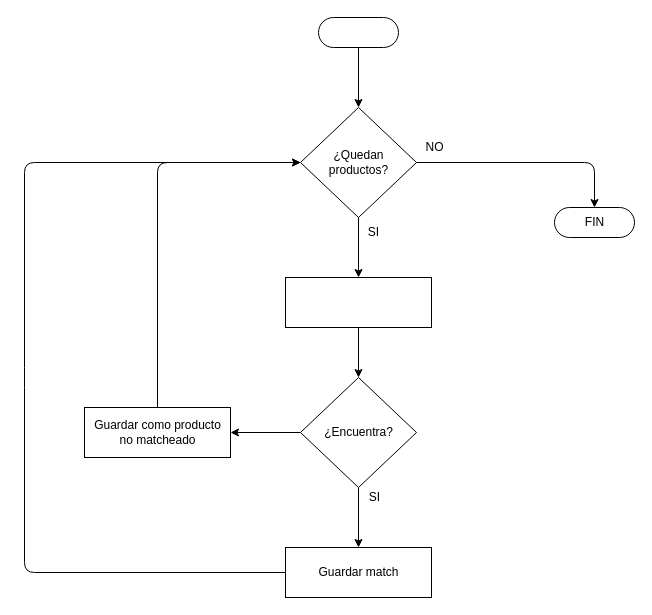
The diagram is 652 pixels wide and 615 high, and some of its shapes have lost their labels. The shapes that lost their labels are listed below. From the top down, each one's centre as x and y in pixels, then its label:
the point at 358,32: INICIO
the point at 358,302: Busca productos con mismo EAN
